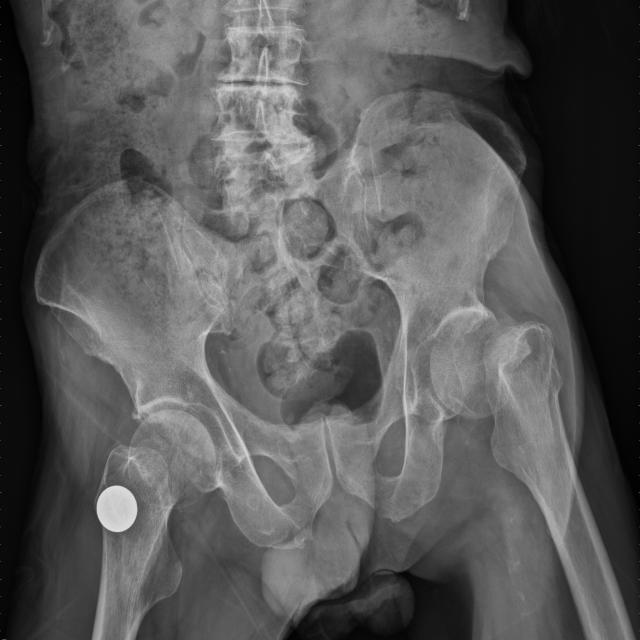left-neck: (482, 321, 593, 527), (430, 314, 531, 418)
normal-right: (91, 409, 216, 640)
